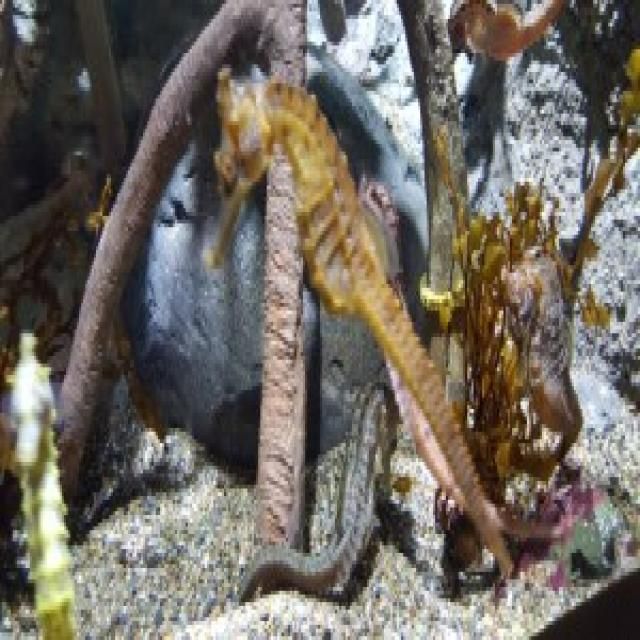Seahorse: (203, 63, 498, 511), (504, 236, 596, 464), (4, 329, 68, 640)
